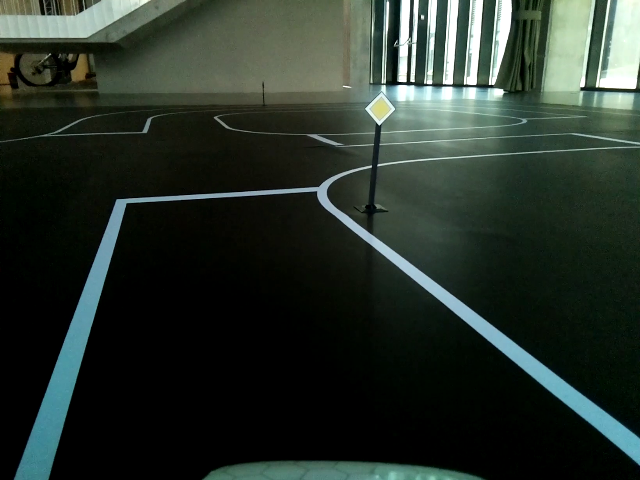priority: (365, 93, 394, 125)
